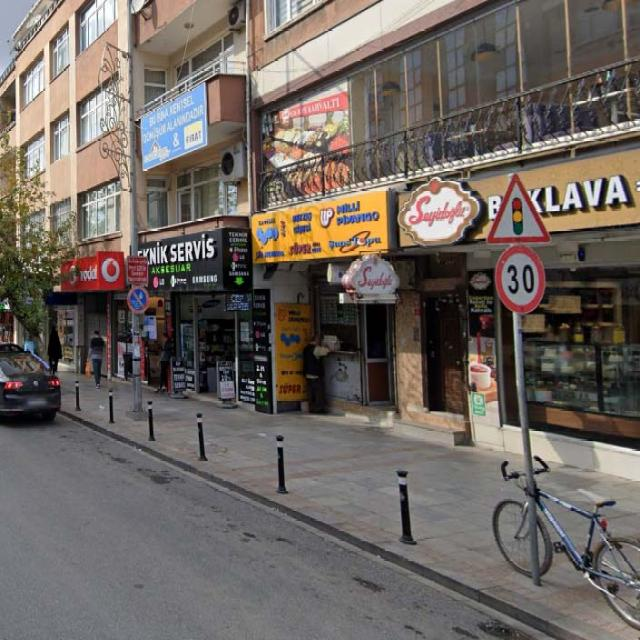30: (494, 244, 546, 314)
parkyasak: (128, 286, 150, 314)
